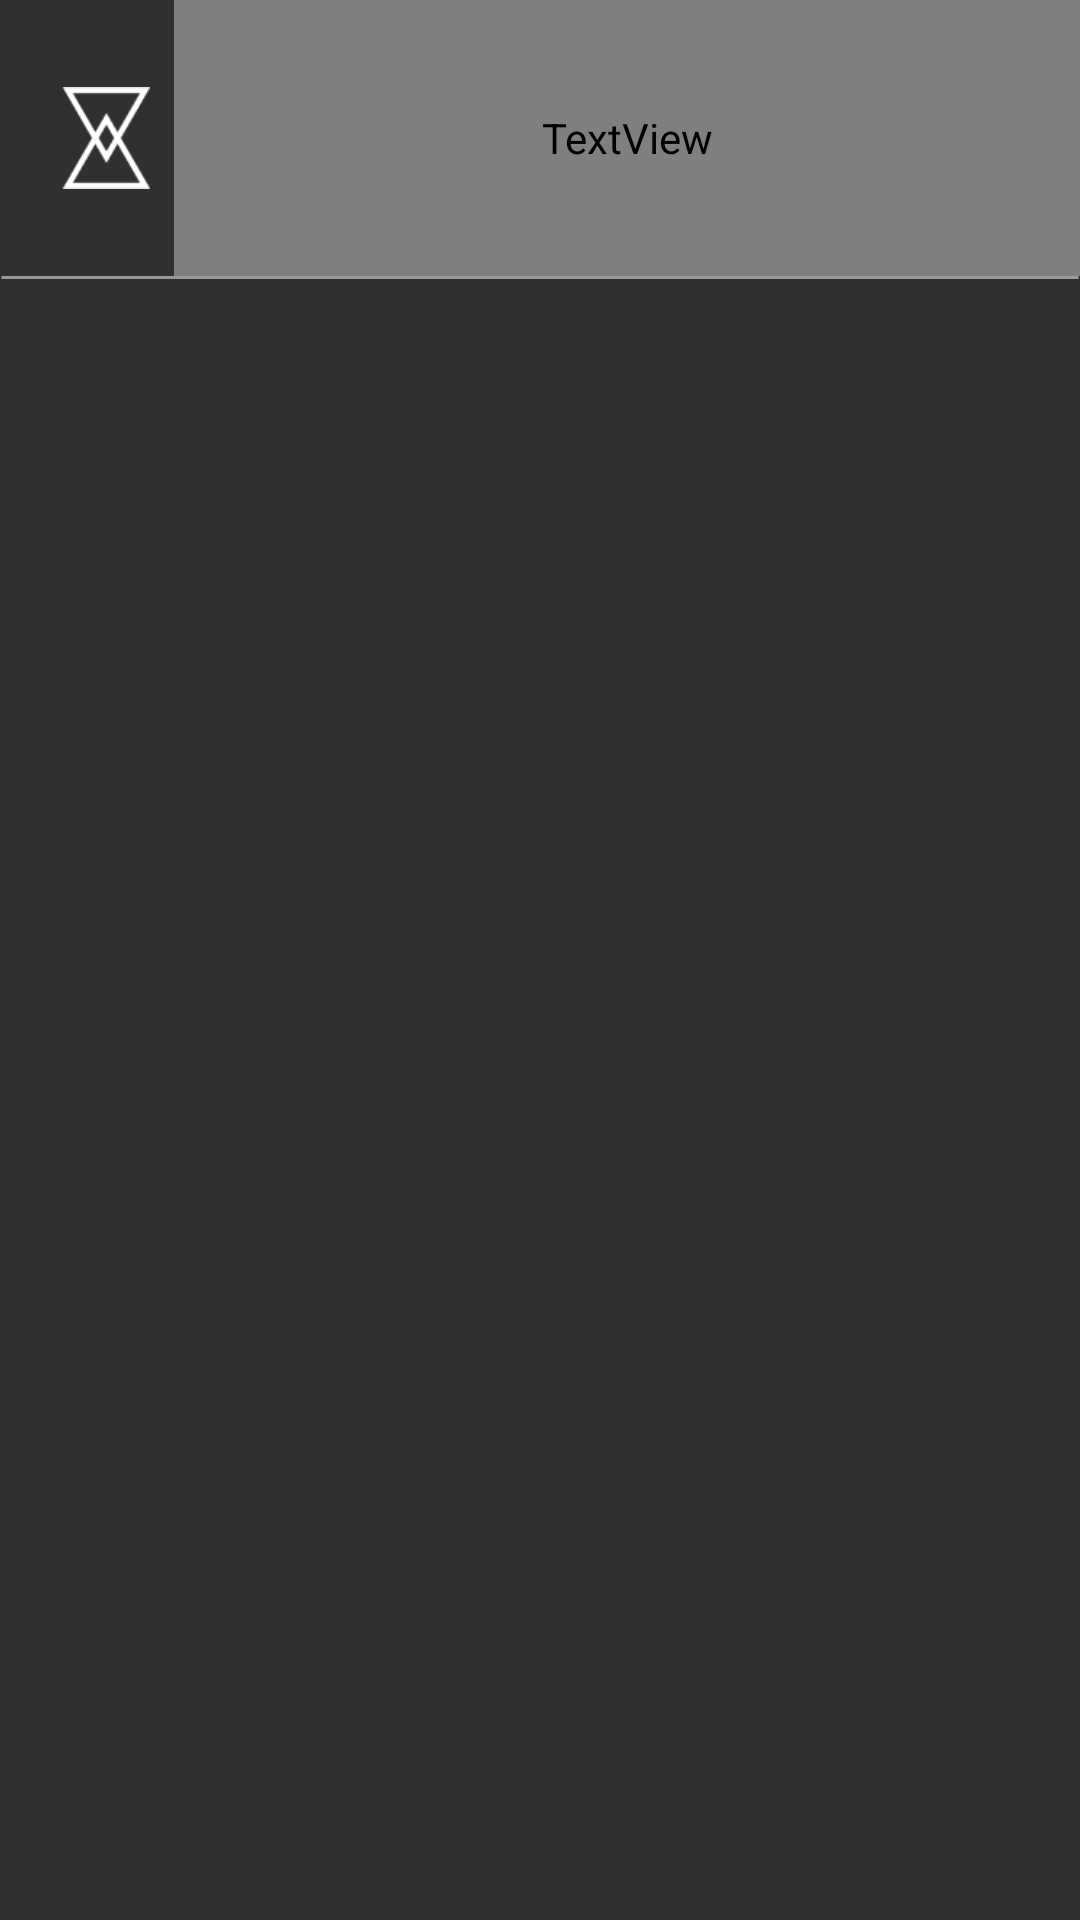

Icons on this 1080px×1920px Android screen, each with its box as (x1, y1, x2, y2):
hourglass: (62, 87, 150, 189)
